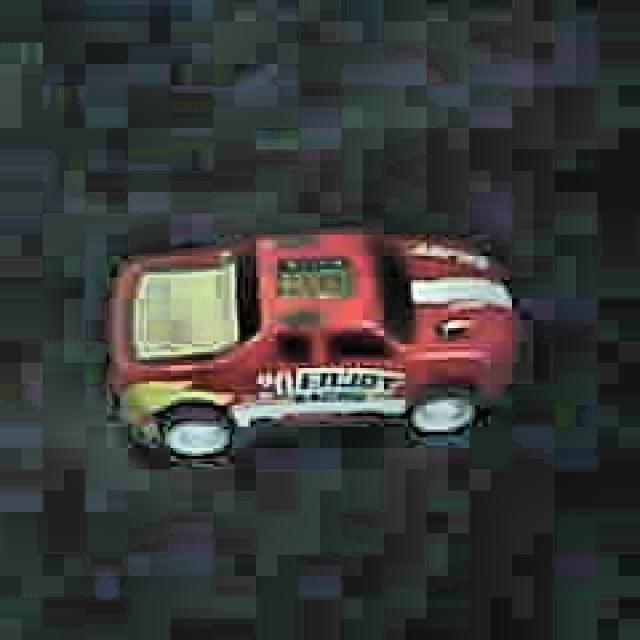car: (100, 225, 520, 463)
